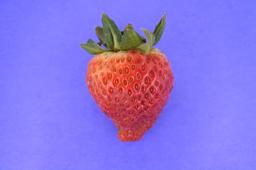red strawberry: (80, 15, 174, 143)
